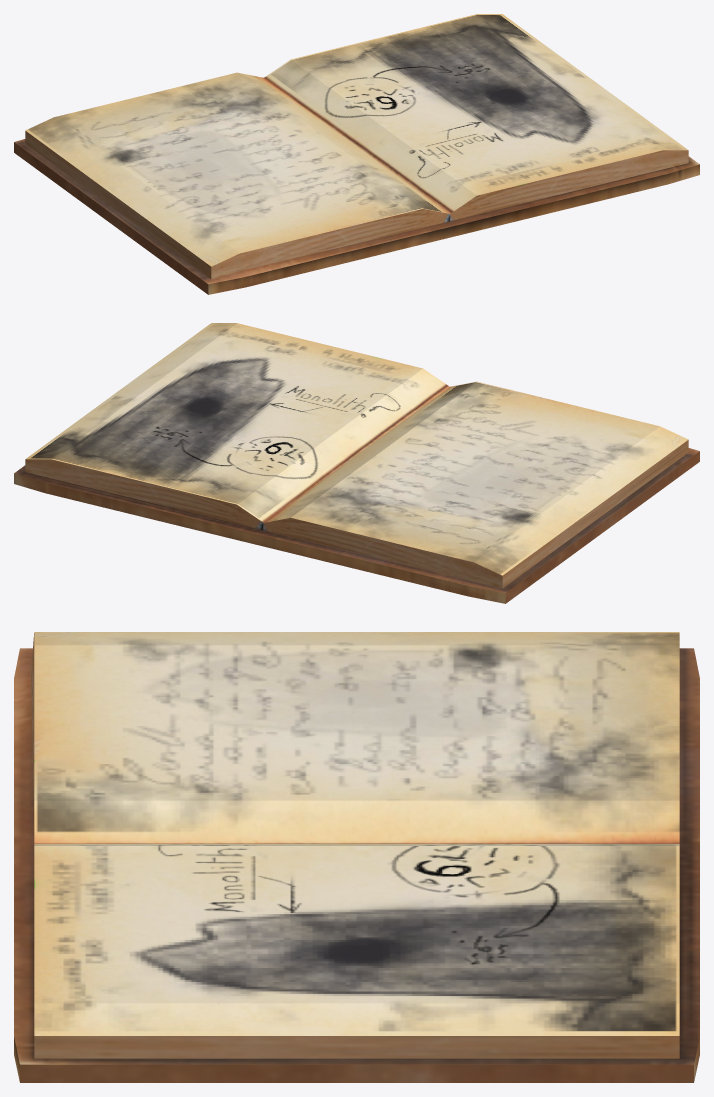
The model's file is Croquis.FBX.
3 renders of one model, top to bottom at view 1: azimuth 30°, elevation 25°; view 2: azimuth 150°, elevation 25°; view 3: azimuth 270°, elevation 25°, orthographic. The views are drawn at different scales.
Visible parts, largest first — view 1: Box006; view 2: Box006; view 3: Box006.
Boxes of the visible parts, x1,y1,x2,y2 form: Box006: (14, 14, 699, 294); Box006: (14, 323, 699, 603); Box006: (14, 632, 699, 1082).
Size of the model in its own units: 63.83 by 3.68 by 44.47.
